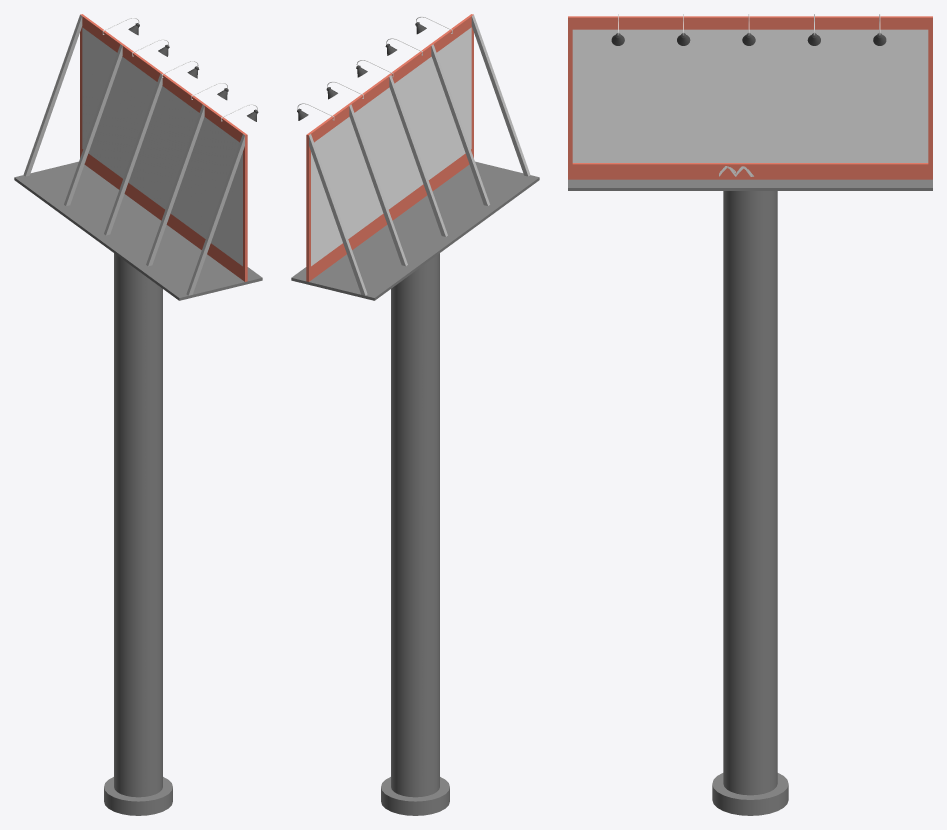
Rendered from billboards.dae.
3 renders of one model, left to right at view 1: azimuth 30°, elevation 25°; view 2: azimuth 150°, elevation 25°; view 3: azimuth 270°, elevation 25°, orthographic. The views are drawn at different scales.
Parts seen in each view (by area): view 1: group_13 (×3), SketchUp, group_11, group_15, group_17, group_16, group_18, group_14; view 2: group_13 (×3), SketchUp, group_11, group_14, group_16, group_17, group_18, group_15; view 3: SketchUp, group_13 (×3), group_11 (×2).
Part boxes in pixels (x1=…): group_13 (×3): x1=14, y1=161, x2=262, y2=815; SketchUp: x1=82, y1=27, x2=242, y2=266; group_11: x1=80, y1=14, x2=247, y2=281; group_15: x1=23, y1=15, x2=82, y2=176; group_17: x1=64, y1=44, x2=122, y2=205; group_16: x1=104, y1=73, x2=162, y2=235; group_18: x1=146, y1=104, x2=204, y2=266; group_14: x1=186, y1=134, x2=244, y2=295; group_13 (×3): x1=291, y1=161, x2=539, y2=815; SketchUp: x1=311, y1=27, x2=471, y2=266; group_11: x1=306, y1=14, x2=473, y2=281; group_14: x1=471, y1=15, x2=530, y2=176; group_16: x1=389, y1=75, x2=447, y2=236; group_17: x1=349, y1=104, x2=407, y2=266; group_18: x1=431, y1=44, x2=489, y2=205; group_15: x1=309, y1=134, x2=367, y2=295; SketchUp: x1=572, y1=29, x2=928, y2=162; group_13 (×3): x1=568, y1=179, x2=932, y2=815; group_11 (×2): x1=568, y1=16, x2=932, y2=179.
Size of the model in its own units: 208 by 586 by 1426.
